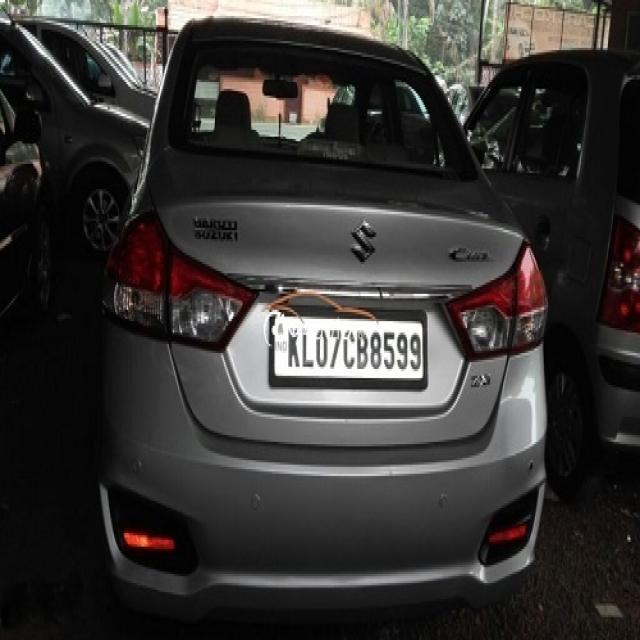number_plate: (272, 312, 428, 383)
